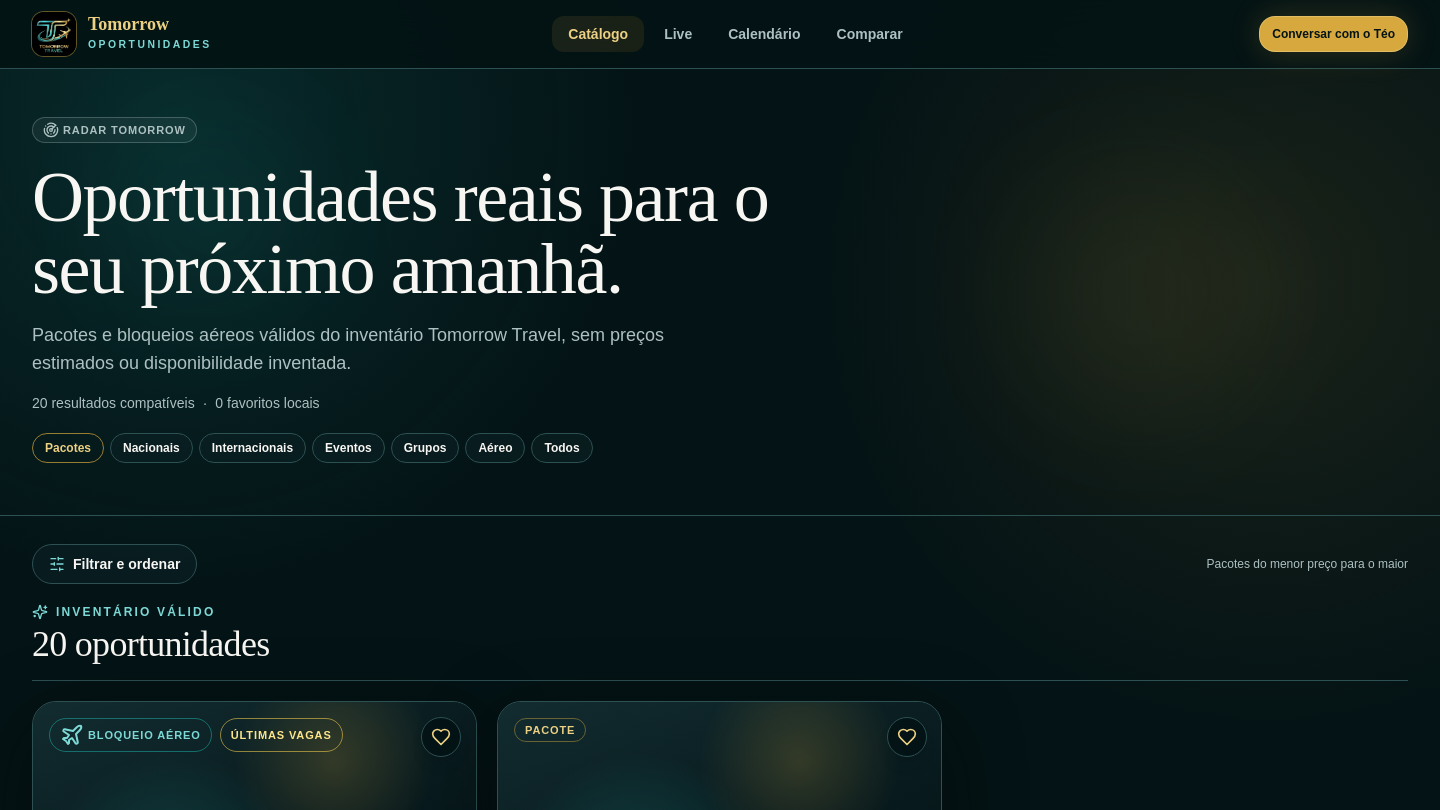
Test case: Catálogo de oportunidades › bloqueia busca inválida antes de consultar a função
Step 1. Click the button "Filtrar e ordenar" → [115, 564], box x1=32 y1=544 x2=197 y2=584
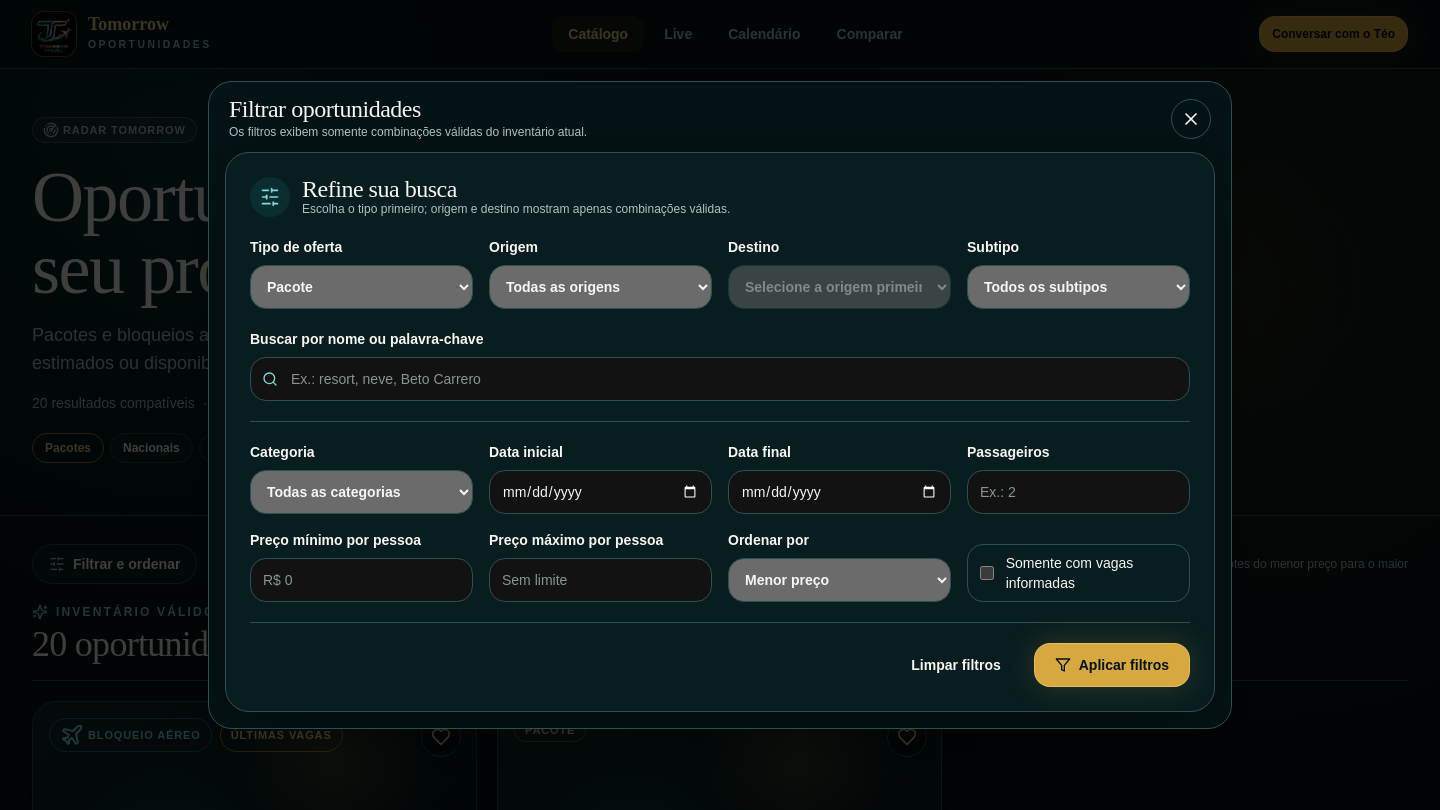
Step 2. Type "Rio!" into the field labelled "Buscar" → [720, 379], box x1=250 y1=357 x2=1190 y2=401
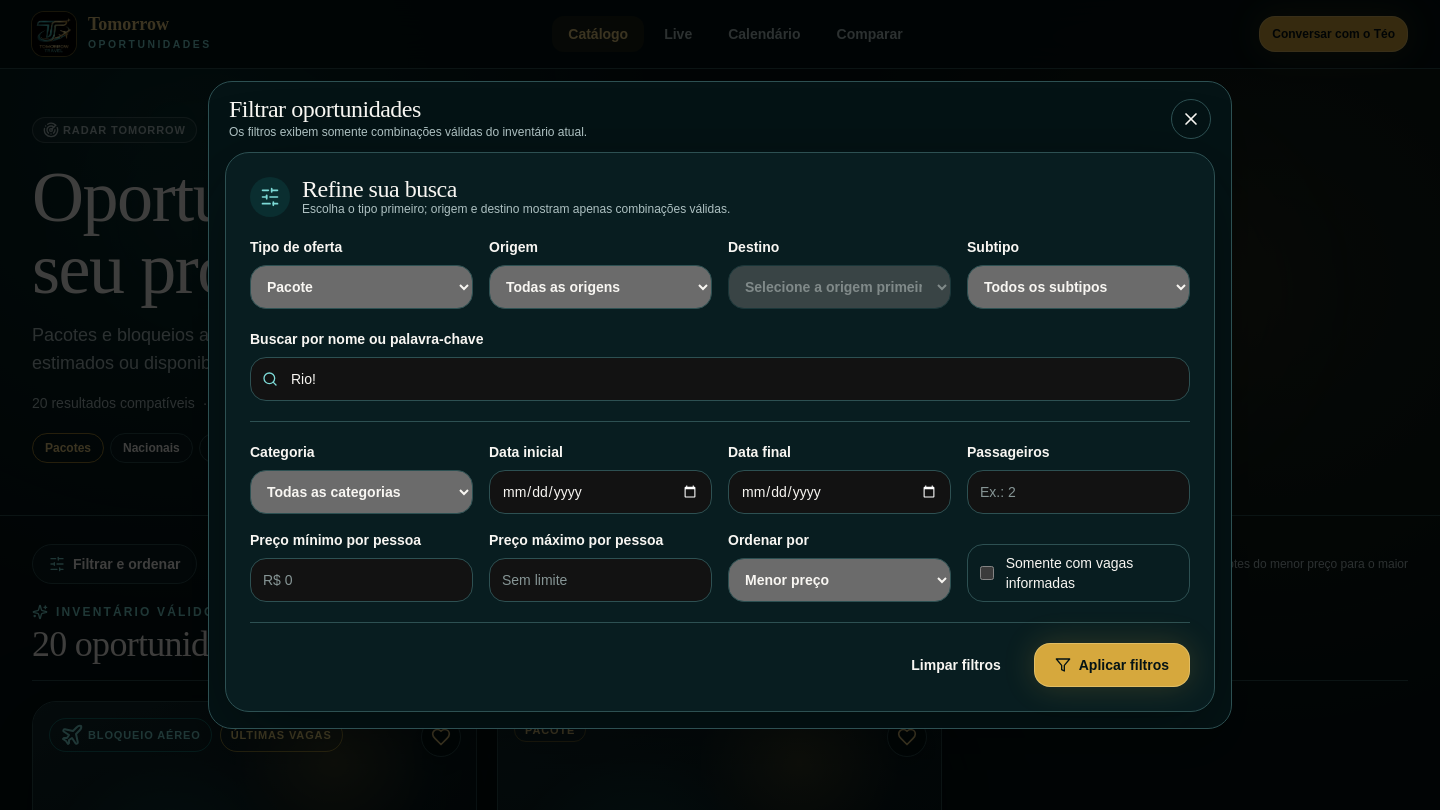
Step 3. Click the button "Aplicar filtros" → [1112, 665], box x1=1034 y1=643 x2=1190 y2=687
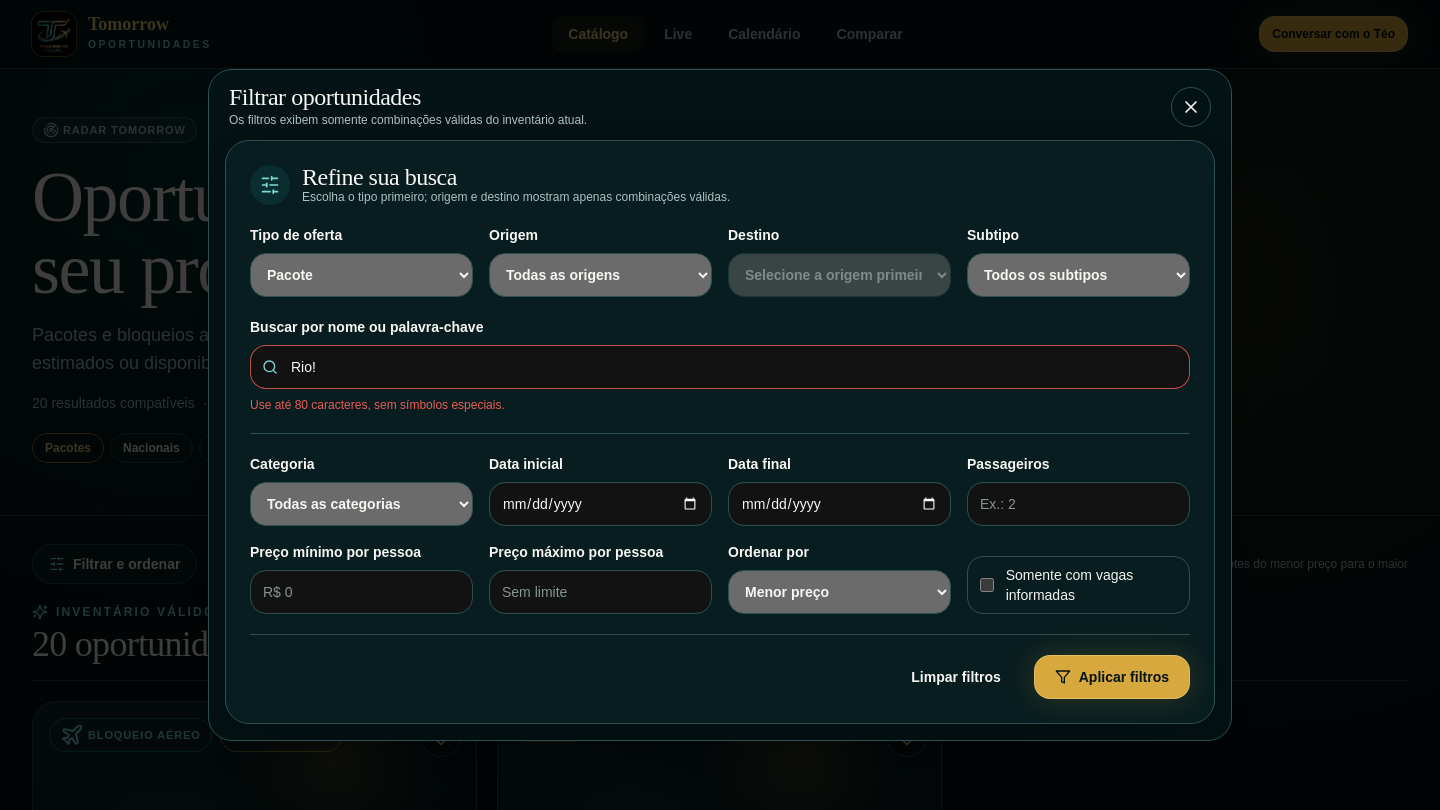
Expected: the text "Use até 80 caracteres, sem símbolos especiais." is shown, x1=250 y1=398 x2=505 y2=412
